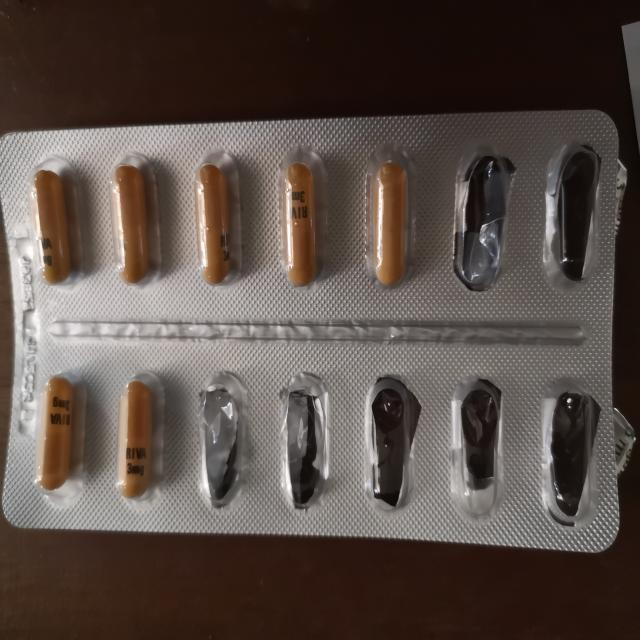Empty: (443, 370, 513, 528), (449, 145, 522, 296), (358, 367, 427, 520), (543, 137, 610, 291), (538, 372, 603, 530), (274, 366, 337, 518)
Pill: (188, 144, 252, 292), (272, 142, 333, 296), (362, 145, 424, 291), (194, 362, 252, 514), (109, 145, 166, 289), (110, 368, 167, 512), (28, 151, 86, 292), (31, 367, 88, 504)
